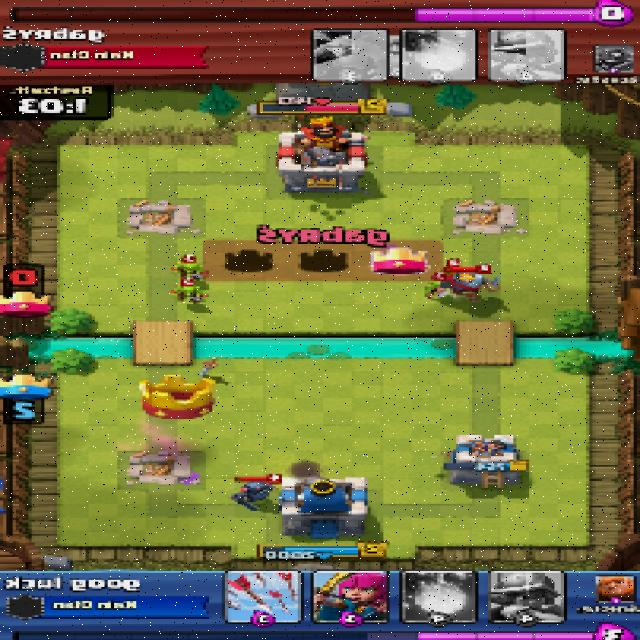Enemy-Goblin: (169, 284, 208, 306), (170, 261, 212, 281), (420, 278, 449, 296)
Enemy-Knight: (437, 272, 510, 300)
Enemy-MiniPEKKA: (230, 478, 279, 512)
